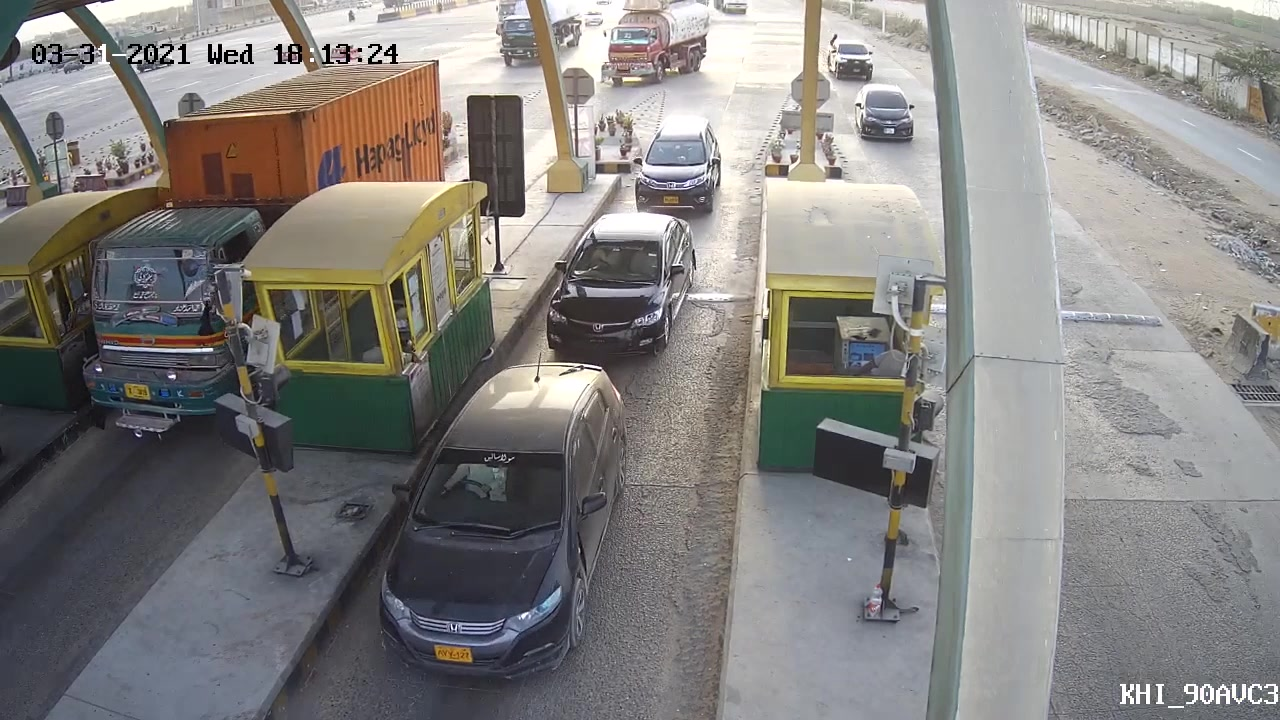F1: (372, 347, 636, 684), (529, 196, 697, 365)
